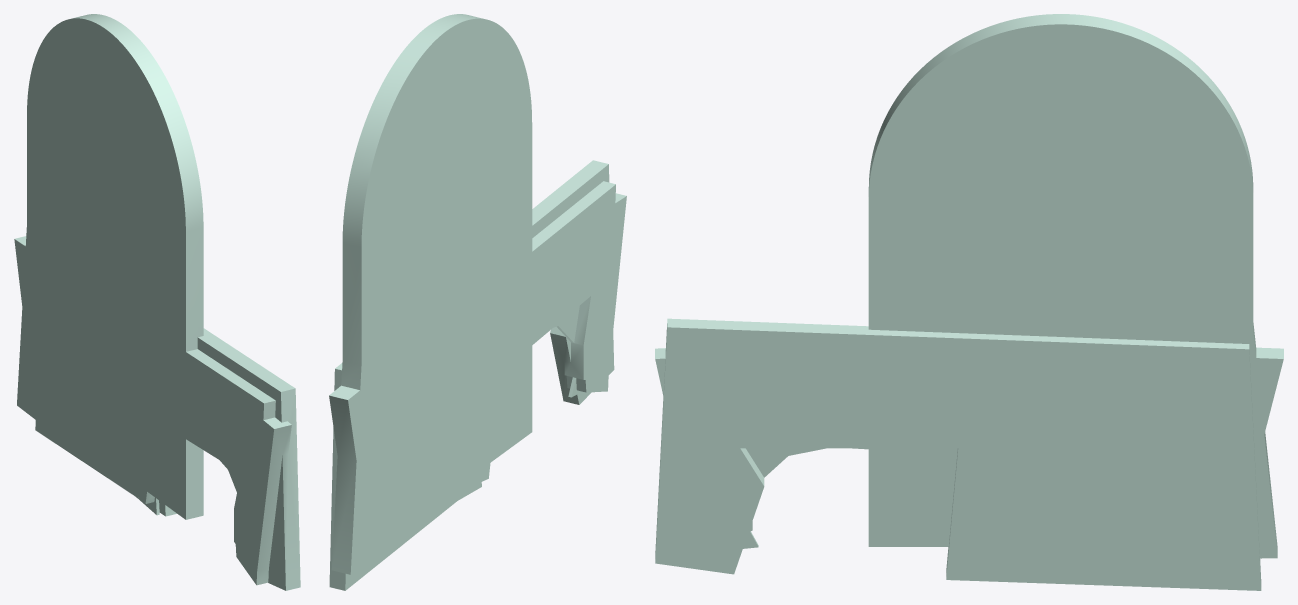
3 views of the same model, side by side, from view 1: azimuth 30°, elevation 25°; view 2: azimuth 150°, elevation 25°; view 3: azimuth 270°, elevation 25° (orthographic). The views are drawn at different scales.
Parts seen in each view (by area): view 1: Renderer Node; view 2: Renderer Node; view 3: Renderer Node.
Part boxes in pixels (left/top/right/bottom): Renderer Node: left=14, top=14, right=300, bottom=590; Renderer Node: left=329, top=14, right=626, bottom=590; Renderer Node: left=655, top=14, right=1283, bottom=590.
Size of the model in its own units: 0.0703 by 1.18 by 1.19.
